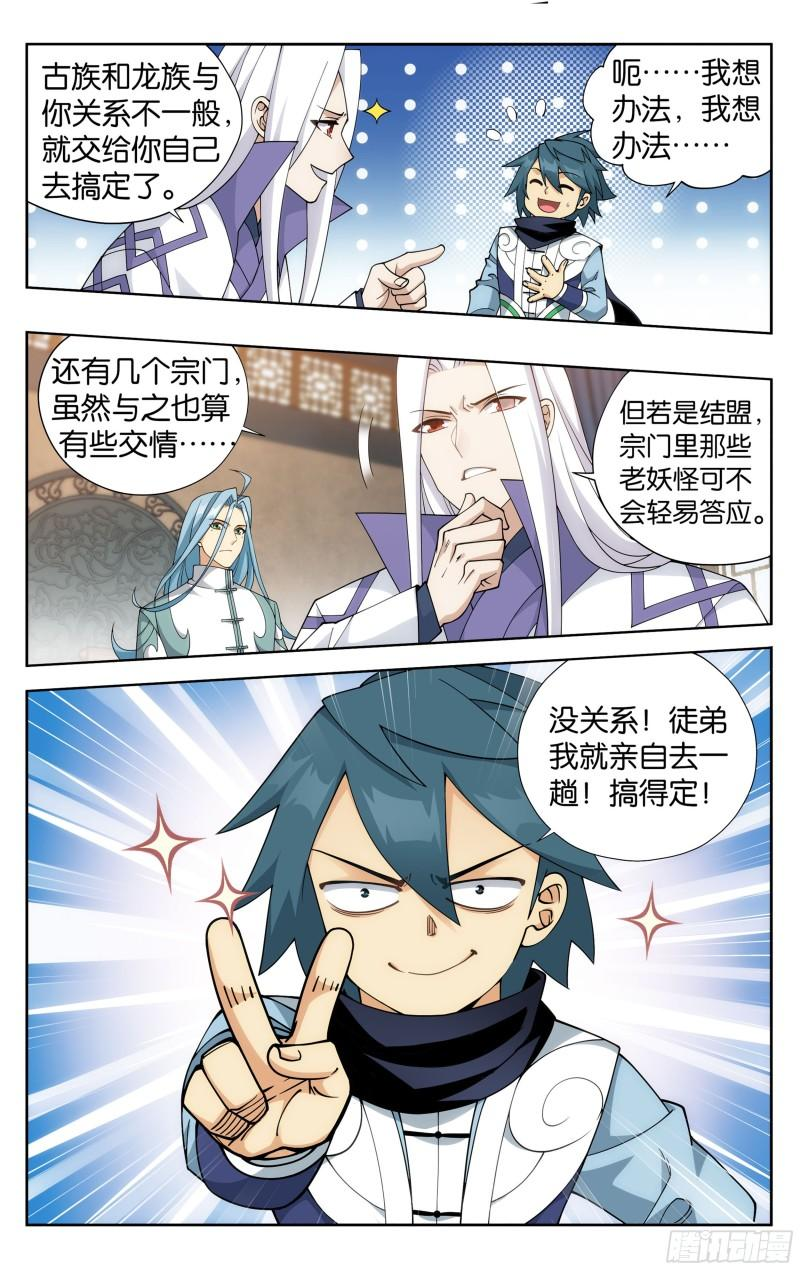boxCloud: (582, 44, 768, 194)
boxEllipse: (516, 652, 756, 859), (573, 365, 774, 562), (24, 44, 240, 221), (36, 332, 267, 497)
minBox: (21, 646, 768, 1225), (21, 329, 774, 664), (24, 44, 774, 335)
